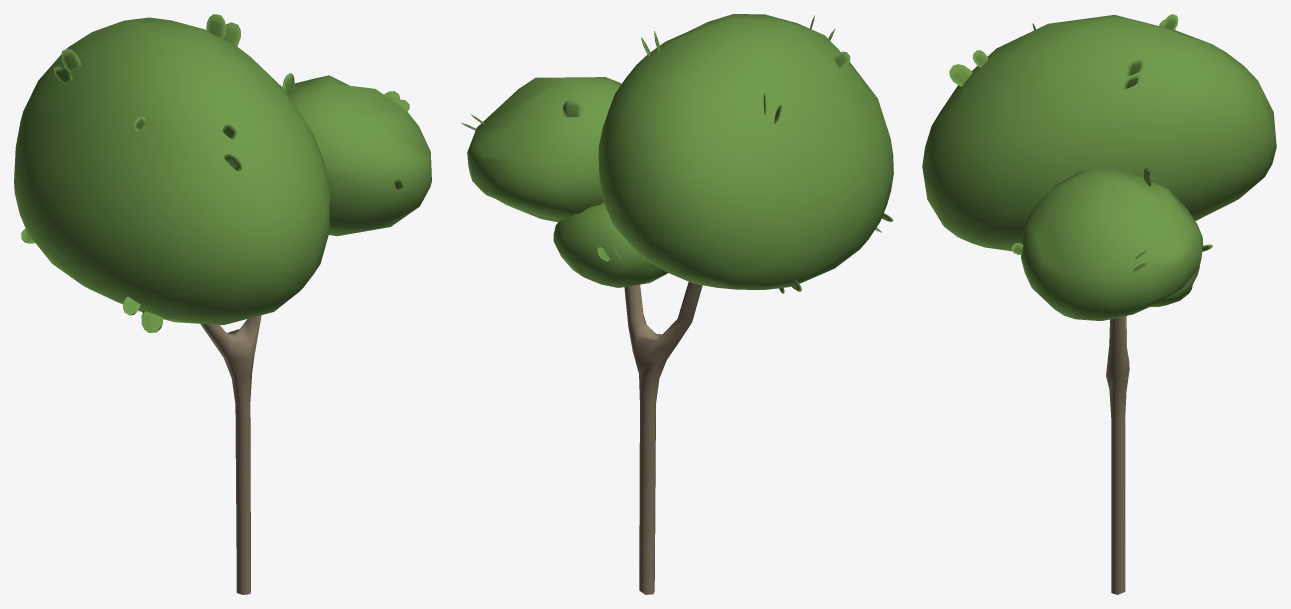
The model's file is TreeExample.fbx.
The picture shows the model from 3 angles, left to right: view 1: azimuth 30°, elevation 25°; view 2: azimuth 150°, elevation 25°; view 3: azimuth 270°, elevation 25°; orthographic projection. The views are drawn at different scales.
Parts seen in each view (by area): view 1: Tree_Type3_02_mesh.001, Tree1A; view 2: Tree_Type3_02_mesh.001, Tree1A; view 3: Tree_Type3_02_mesh.001, Tree1A.
Boxes of the visible parts, x1,y1,x2,y2 form: Tree_Type3_02_mesh.001: [14, 14, 431, 332]; Tree1A: [200, 315, 261, 594]; Tree_Type3_02_mesh.001: [461, 14, 893, 293]; Tree1A: [624, 282, 702, 594]; Tree_Type3_02_mesh.001: [922, 14, 1276, 320]; Tree1A: [1106, 316, 1129, 594].
Bounding box in the file's own units: 323 × 467 × 282.
